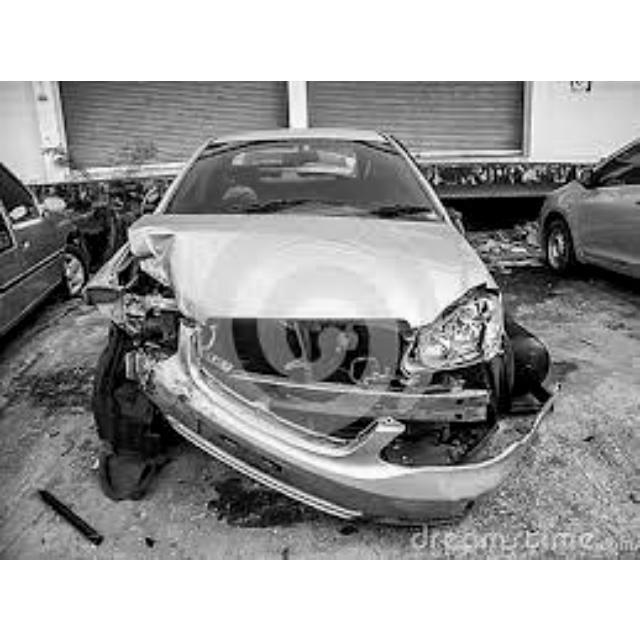Headlight-damage: (420, 298, 516, 379), (99, 275, 187, 349)
bonnet-dent: (148, 204, 464, 320)
front-bumper-dent: (156, 387, 482, 515)
